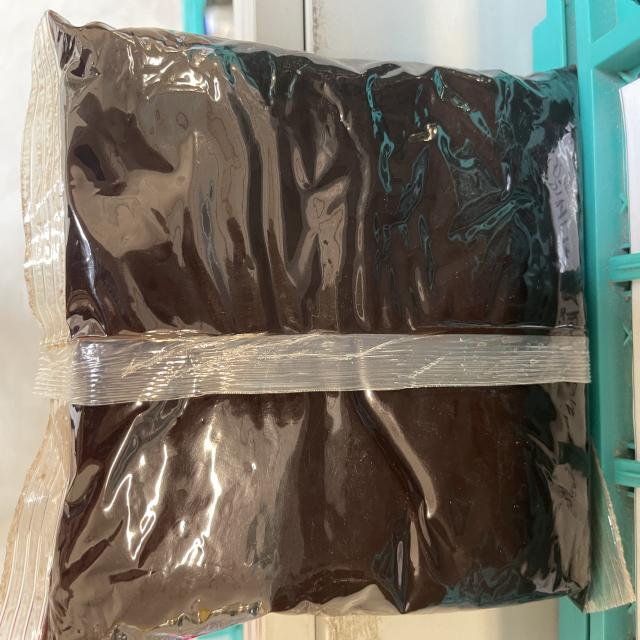object_name: (51, 38, 599, 590)
